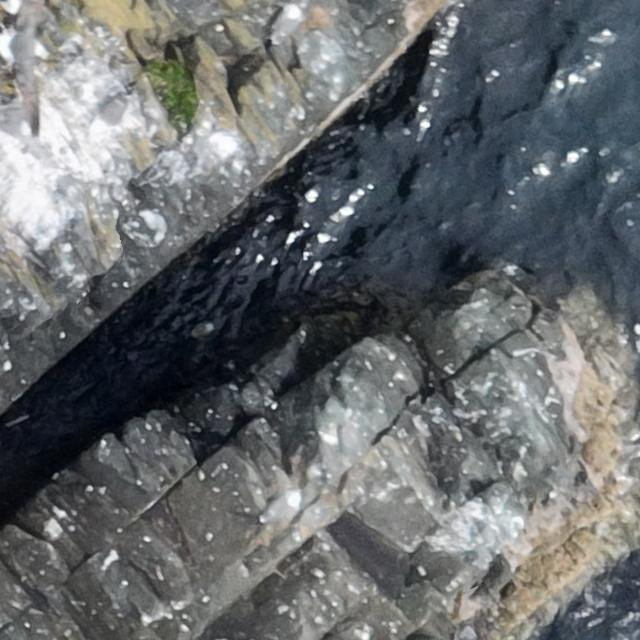F: (4, 22, 49, 140)
umineko: (91, 87, 133, 144), (268, 1, 304, 47), (266, 484, 302, 526)
